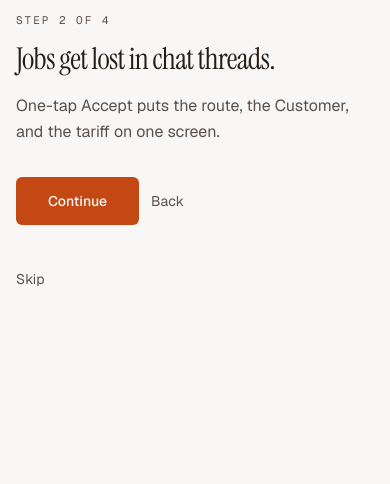
Test case: Onboarding draft resume (friction-fix 02 contract) › clears the draft on completed submit but keeps completed answers
Step 1. Click the button "Continue" → (78, 200), box [16,176,139,224]
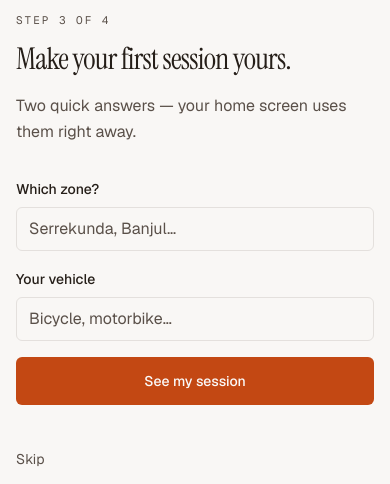
Step 2. Type "Serrekunda" into the field labelled "Which zone?" → (195, 228), box [16,206,374,250]
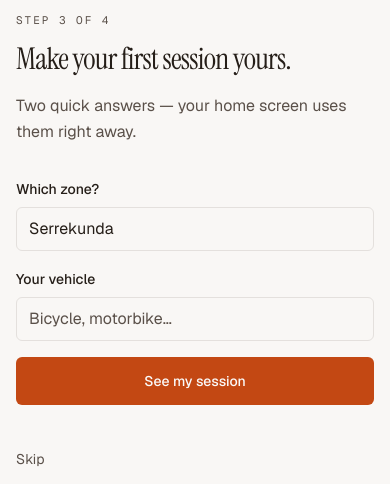
Step 3. Click the button "See my session" → (195, 380), box [16,356,374,404]
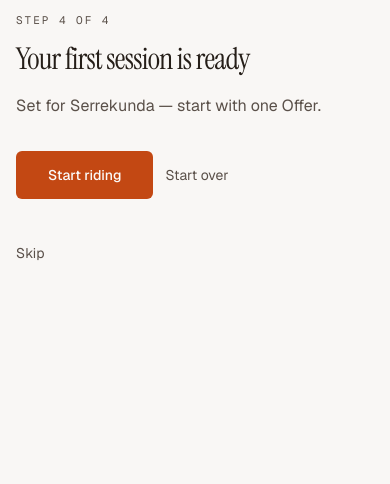
Expected: the heading "Your first session is ready" is shown, [16,38,250,78]
